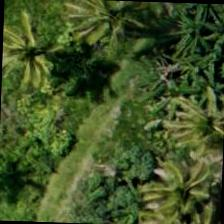Kelapa_Sawit: (1, 13, 76, 104), (136, 148, 224, 223), (64, 0, 157, 70), (156, 77, 223, 170)
